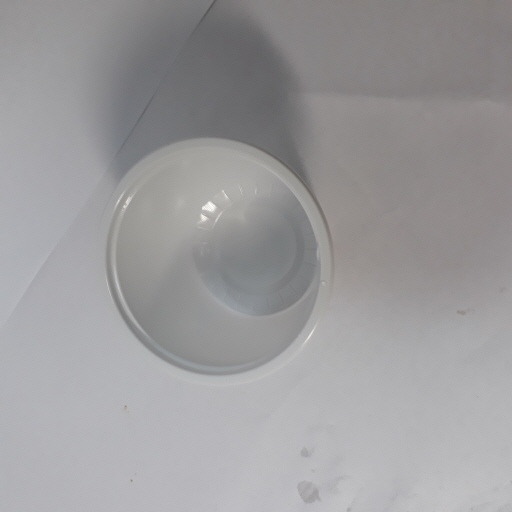Plastic_5: (102, 135, 339, 386)
